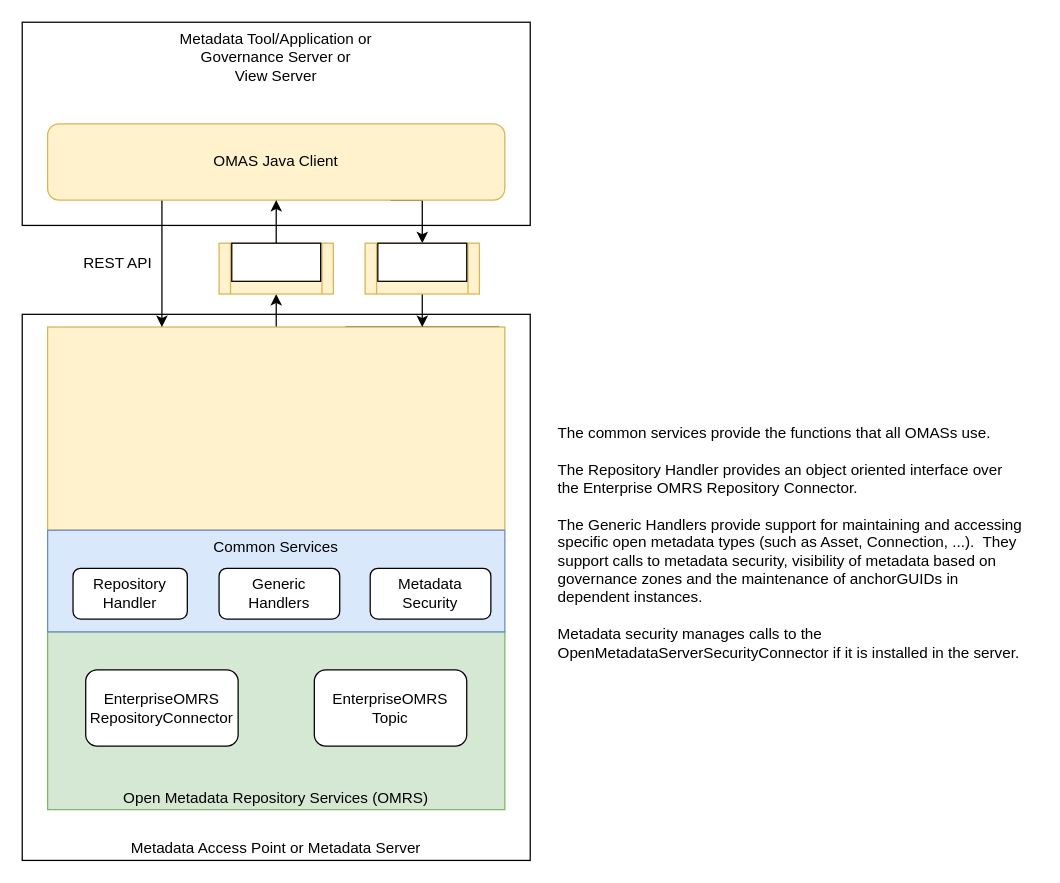
Image size: 1060x883. Some labels were removed from this diagram. Each missing label, with the centre of its shape:
OMAS In Topic: (x=422, y=261)
OMAS Out Topic: (x=276, y=261)
Open Metadata Access Service (OMAS) Server Side: (x=275, y=428)
